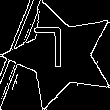L_S: (44, 29, 77, 80)
